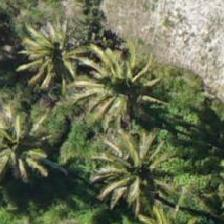coconut_tree: (7, 15, 97, 105), (76, 36, 166, 126), (87, 126, 177, 216), (0, 91, 57, 181)
